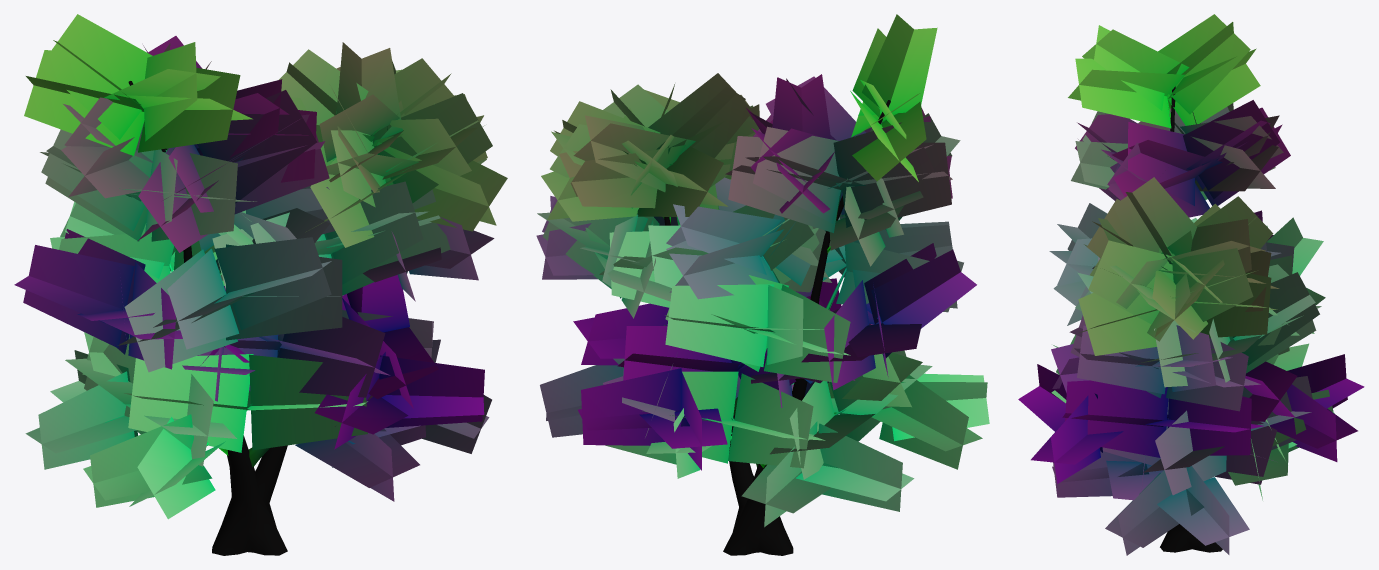
Rendered from Tree_4_7.fbx.
3 renders of one model, left to right at view 1: azimuth 30°, elevation 25°; view 2: azimuth 150°, elevation 25°; view 3: azimuth 270°, elevation 25°, orthographic. The views are drawn at different scales.
Parts seen in each view (by area): view 1: _7; view 2: _7; view 3: _7.
Boxes of the visible parts, x1,y1,x2,y2 form: _7: (14, 14, 507, 555); _7: (536, 14, 989, 555); _7: (1018, 14, 1364, 555).
Bounding box in the file's own units: 2016 × 2523 × 1680.
